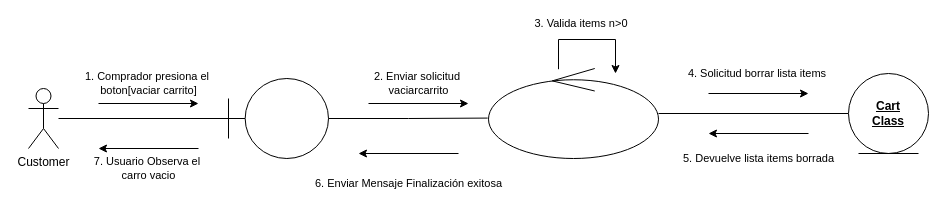
Image size: 946x207. Some labels were removed from this diagram. Here are the shapes that lost their labels. From the top down, the box of each, then its label:
(228, 78, 328, 158): MainView Class
(488, 68, 658, 158): VaciarCarritoUseCase Class
